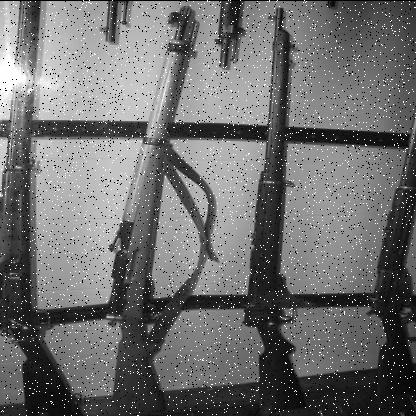rifle: (92, 8, 227, 412), (0, 1, 88, 413), (249, 1, 303, 416), (381, 82, 415, 416)
